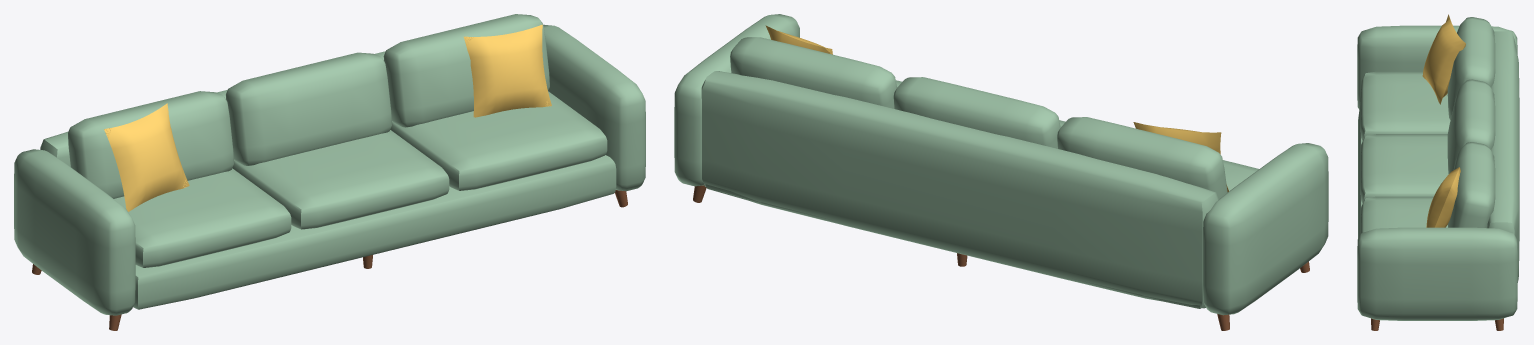
The model's file is sofa.glb.
3 views of the same model, side by side, from view 1: azimuth 30°, elevation 25°; view 2: azimuth 150°, elevation 25°; view 3: azimuth 270°, elevation 25° (orthographic). The views are drawn at different scales.
Visible parts, largest first — view 1: fabric_sofa, accent_pillow, walnut; view 2: fabric_sofa, accent_pillow, walnut; view 3: fabric_sofa, accent_pillow, walnut.
Part boxes in pixels (x1=…): fabric_sofa: x1=14, y1=14, x2=645, y2=315; accent_pillow: x1=104, y1=24, x2=551, y2=211; walnut: x1=32, y1=190, x2=627, y2=330; fabric_sofa: x1=674, y1=14, x2=1328, y2=315; accent_pillow: x1=765, y1=25, x2=1228, y2=191; walnut: x1=693, y1=185, x2=1309, y2=330; fabric_sofa: x1=1357, y1=17, x2=1519, y2=320; accent_pillow: x1=1422, y1=14, x2=1465, y2=227; walnut: x1=1371, y1=318, x2=1503, y2=330.
Bounding box in the file's own units: 3.02 × 0.8352 × 0.9519.
